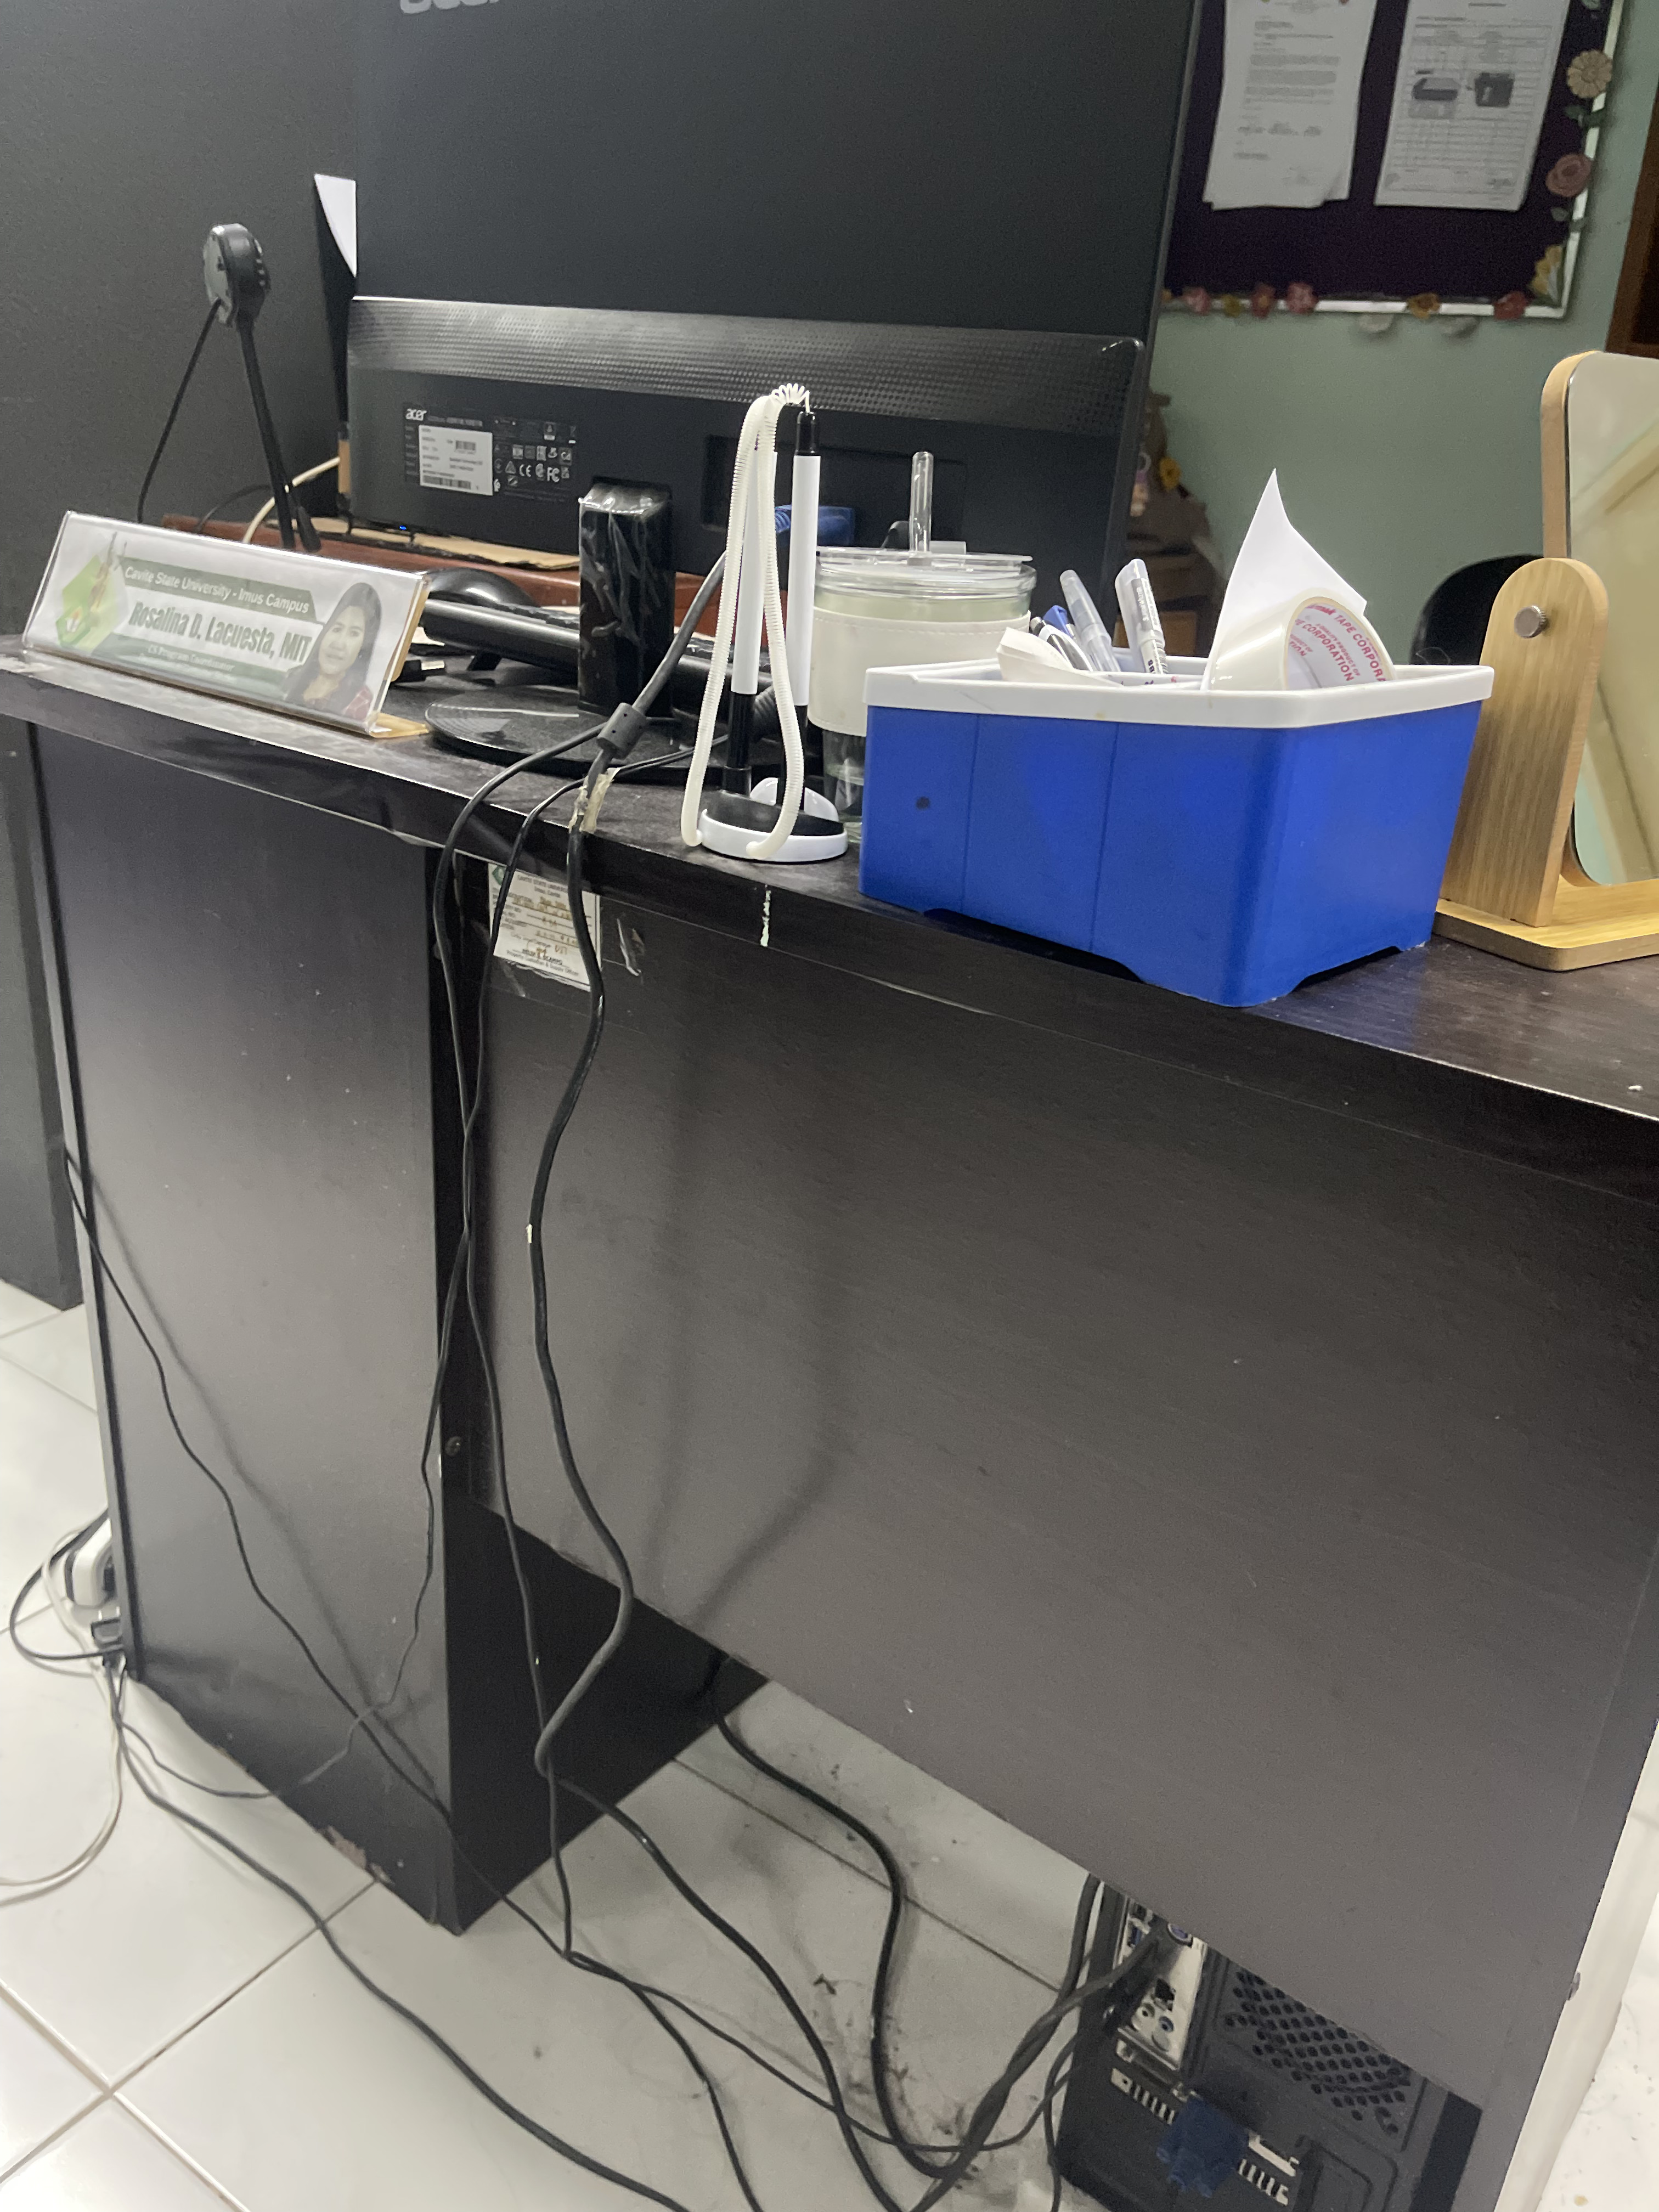table1: (0, 622, 1659, 2212)
